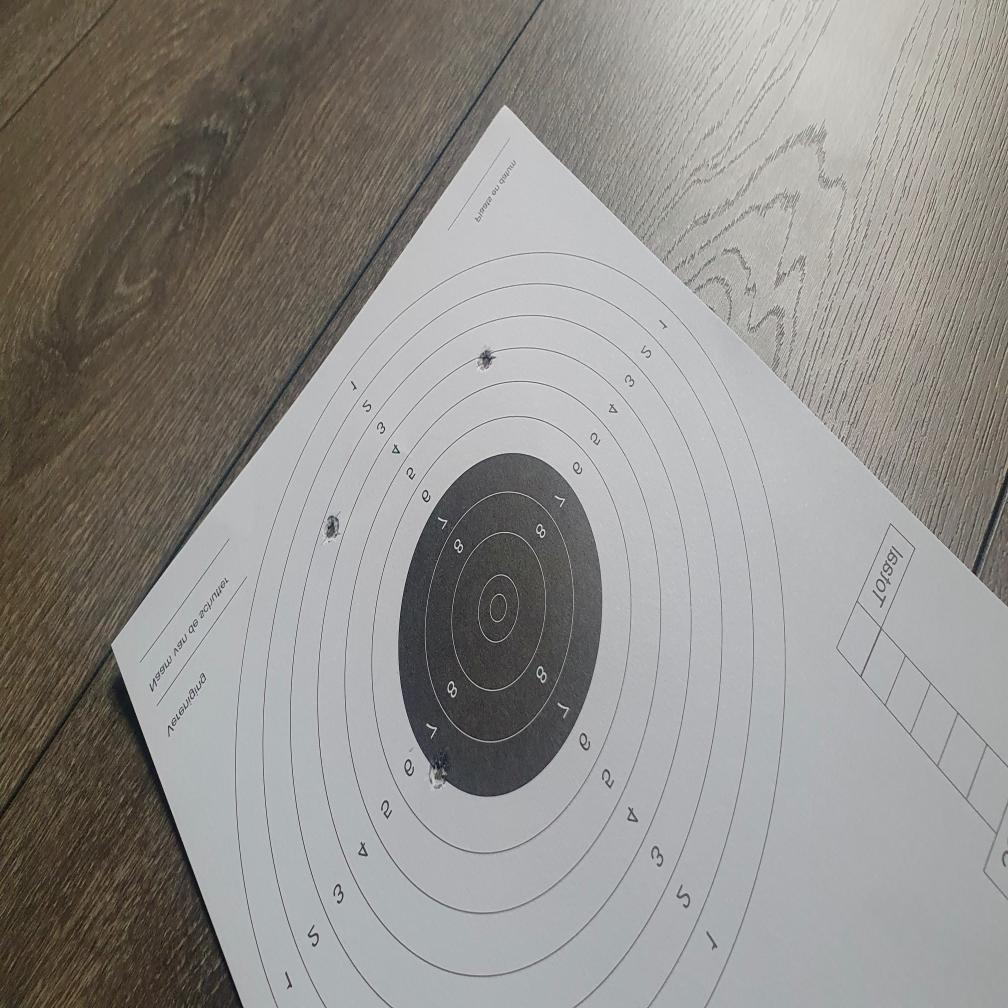3: (321, 509, 340, 548)
4: (474, 347, 495, 373)
7: (426, 746, 451, 792)
Target: (234, 252, 782, 1008)
black_contour: (397, 452, 603, 799)
